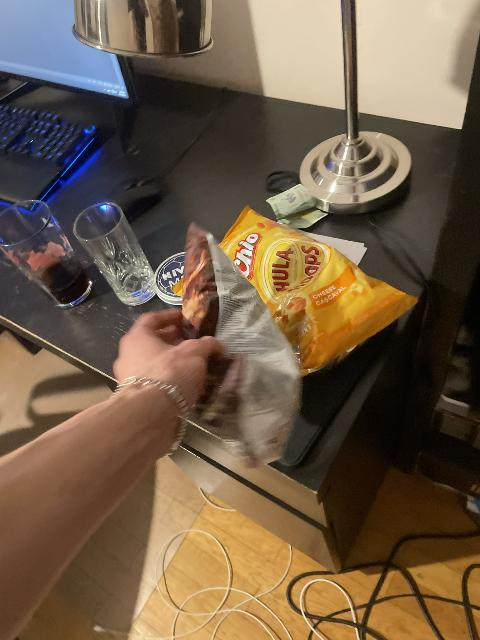Chio Hula Hoops Cheese 70g: (208, 206, 411, 369)
Lays Beef Grilled Ribs 125g: (182, 231, 302, 455)
